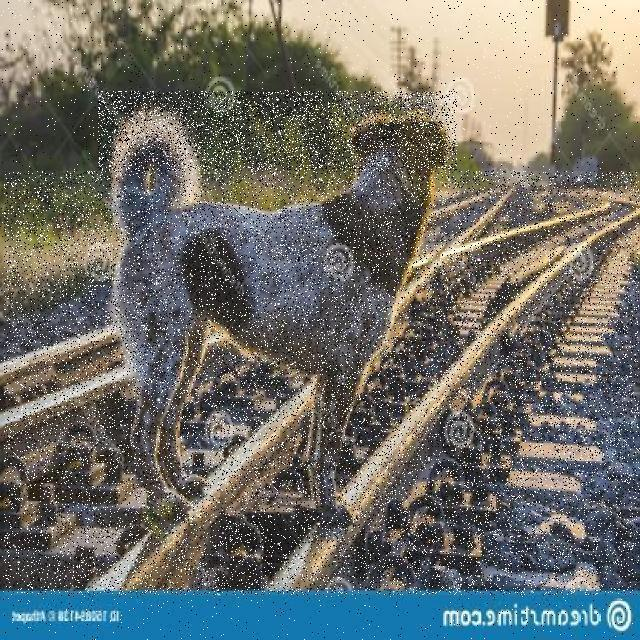rail: (5, 173, 640, 596)
